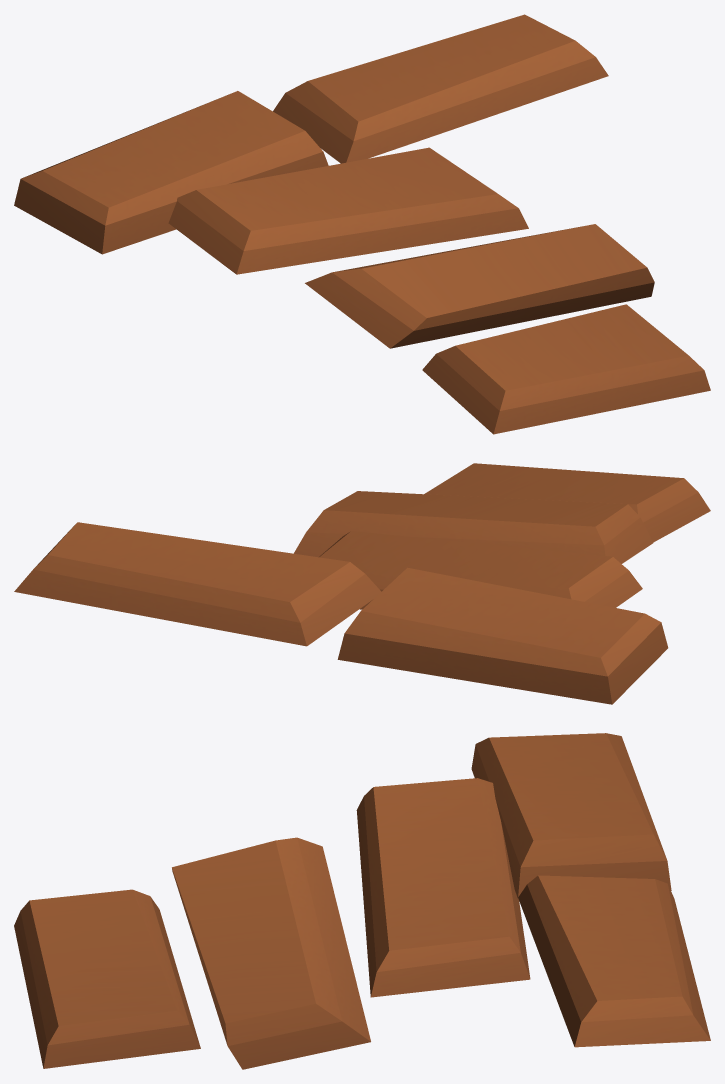
The picture shows the model from 3 angles, top to bottom: view 1: azimuth 30°, elevation 25°; view 2: azimuth 150°, elevation 25°; view 3: azimuth 270°, elevation 25°; orthographic projection. The views are drawn at different scales.
Visible parts, largest first — view 1: polySurface4038.006; view 2: polySurface4038.006; view 3: polySurface4038.006.
Part boxes in pixels (x1=…): polySurface4038.006: x1=14, y1=14, x2=710, y2=434; polySurface4038.006: x1=14, y1=463, x2=710, y2=704; polySurface4038.006: x1=14, y1=733, x2=710, y2=1069.
Size of the model in its own units: 151 by 33.65 by 152.
